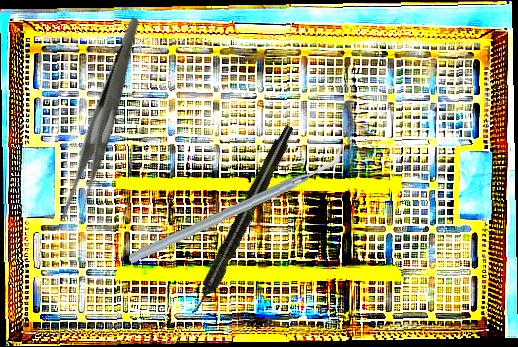Chopper: (125, 143, 350, 264)
Dressing Forceps: (12, 16, 198, 229)
Handpiece: (186, 122, 298, 319)
